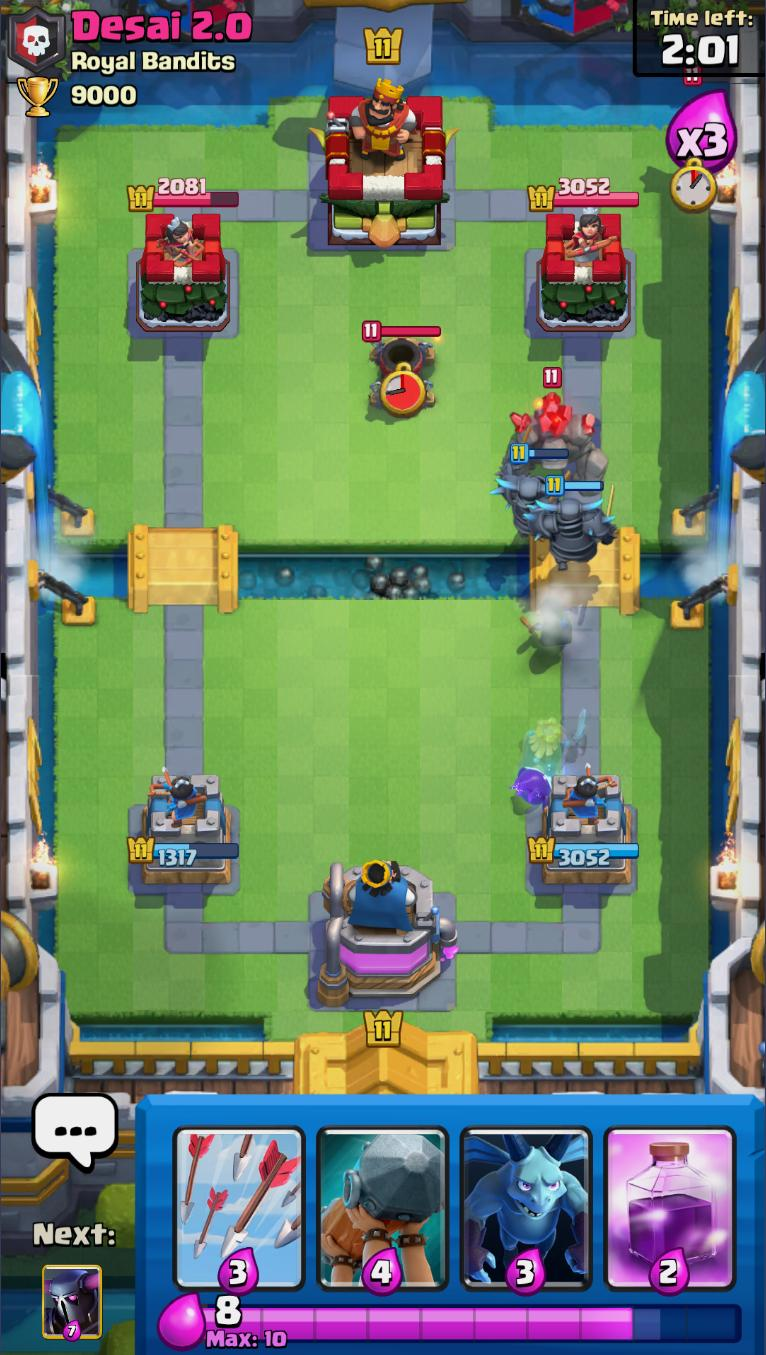ArrowDeck: (167, 1095, 310, 1296)
BattleRamDeck: (311, 1095, 455, 1296)
Elixir: (203, 1295, 744, 1350)
EnemyTower: (533, 208, 631, 331), (133, 210, 229, 335)
Golem: (502, 367, 609, 496)
KingTower: (308, 82, 456, 248)
MinionsDeck: (456, 1094, 598, 1295)
Mortar: (361, 319, 442, 409)
MyBandit: (518, 596, 574, 655)
MyElectroSpirit: (513, 766, 555, 809)
MyKingTower: (319, 856, 458, 1009)
MyPekka: (523, 475, 617, 570), (491, 444, 573, 541)
MyPrincessTower: (524, 771, 639, 887), (125, 769, 238, 887)
MyPrincessTowerHP: (125, 836, 238, 868), (525, 835, 637, 867)
MyRoyaleGhost: (519, 707, 587, 777)
PekkaNext: (40, 1264, 105, 1344)
PrincessTower: (546, 213, 603, 264), (148, 214, 204, 264)
RageDeck: (599, 1094, 744, 1296)
TowerPrincessHP: (126, 178, 239, 213), (526, 178, 639, 212)
